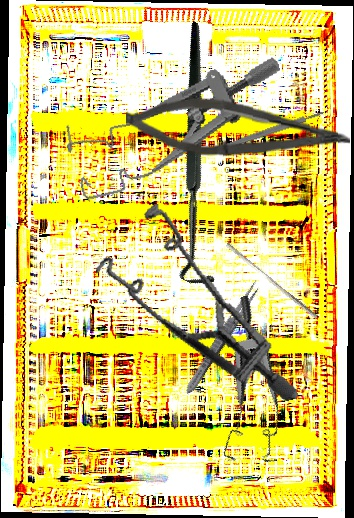Dressing Forceps: (181, 277, 264, 398)
Hook Surgical: (81, 21, 320, 293)
Micro Scissor: (125, 94, 351, 162)
Pusher: (222, 242, 322, 319)
Scalpel Handle: (213, 109, 326, 154)
Speculum: (84, 182, 299, 437), (56, 54, 300, 203), (173, 294, 308, 478)
